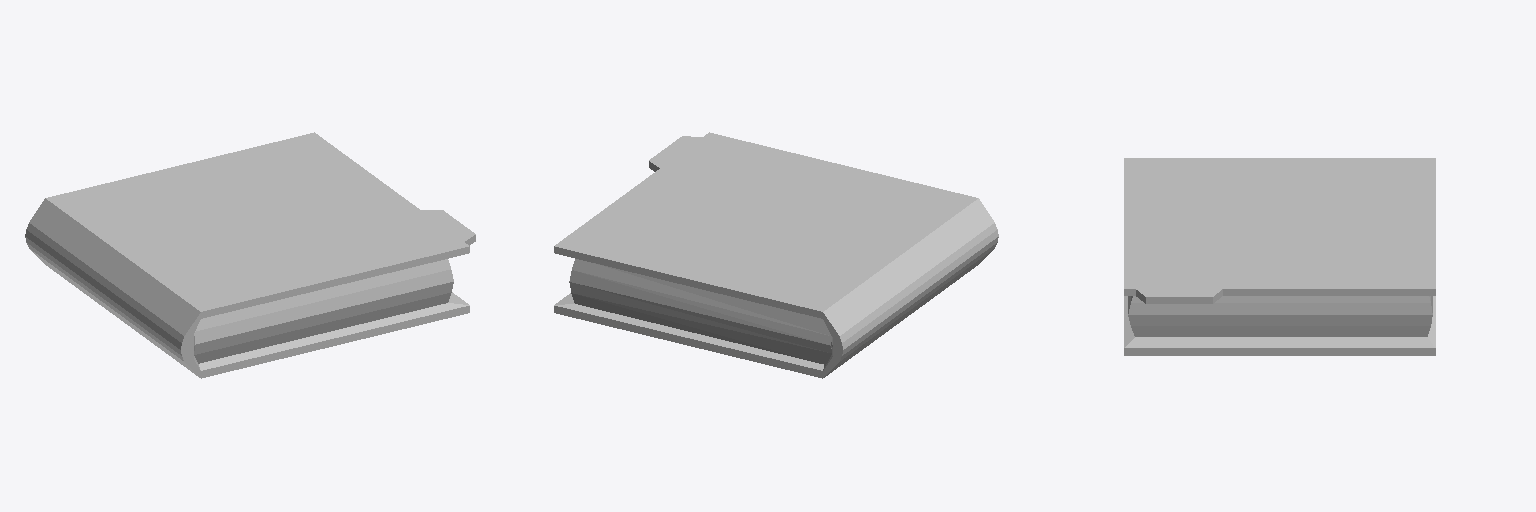
File: FullFolder.obj
The picture shows the model from 3 angles: view 1: azimuth 30°, elevation 25°; view 2: azimuth 150°, elevation 25°; view 3: azimuth 270°, elevation 25°; orthographic projection.
Parts seen in each view (by area): view 1: Cube; view 2: Cube; view 3: Cube.
Boxes of the visible parts, x1,y1,x2,y2 form: Cube: [25, 132, 475, 378]; Cube: [554, 132, 998, 378]; Cube: [1124, 158, 1435, 355].
Size of the model in its own units: 3.94 by 0.8193 by 3.47.